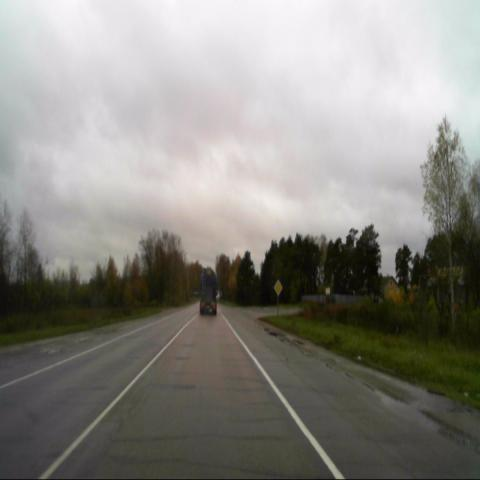2_1: (273, 279, 283, 296)
